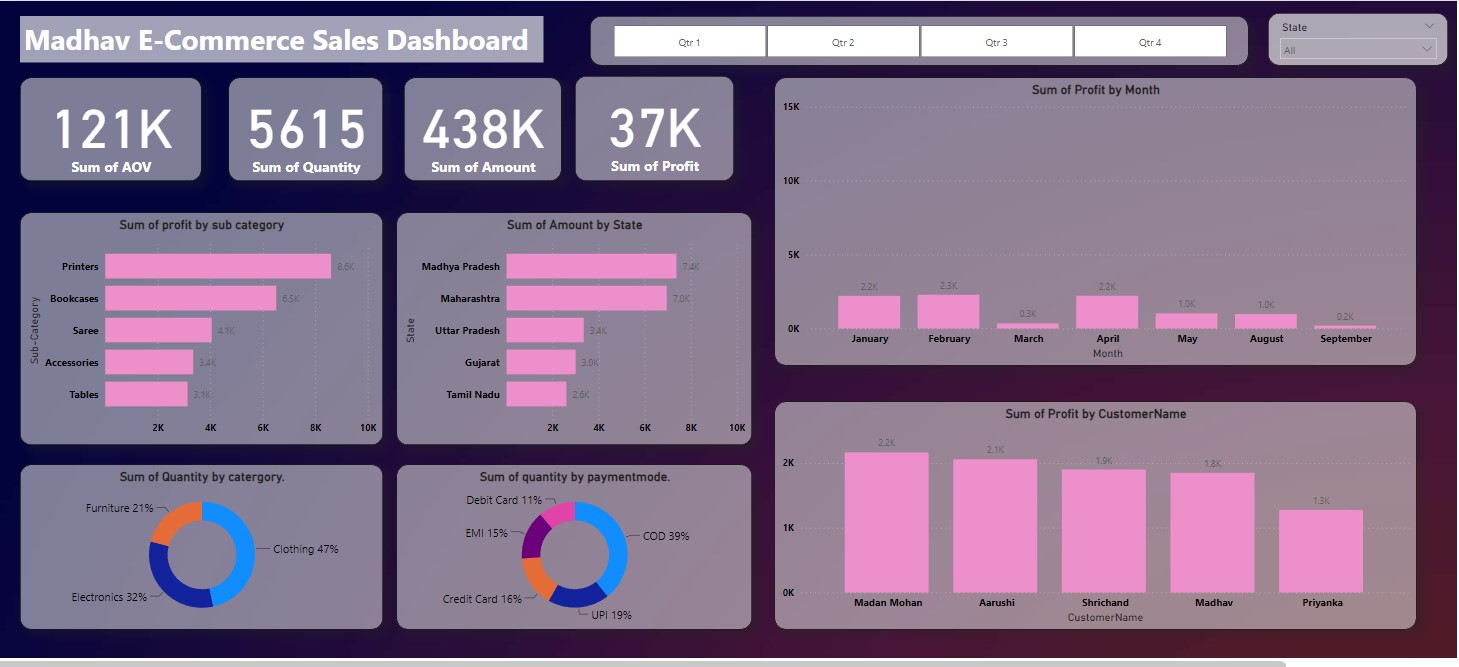

This screenshot's page, from the dashboard's own definition file:
{"tool":"powerbi","page":{"name":"Page 1","canvas":[2202,1000],"ordinal":0},"visuals":[{"type":"slicer","title":"Profit by Month","fields":{"Values":["Orders.Order Date.Variation.Date Hierarchy.Quarter"]},"box":[788,20,878,66],"z":0},{"type":"textbox","box":[28,20,698,62],"z":1},{"type":"clusteredBarChart","title":"Sum of Amount by State","fields":{"Y":["Details.Profit"],"Category":["Orders.State"]},"box":[530,282,474,310],"z":2},{"type":"donutChart","title":"Sum of Quantity by catergory.","fields":{"Category":["Details.Category"],"Y":["Details.Quantity"]},"box":[28,618,484,220],"z":3},{"type":"donutChart","title":"Sum of quantity by paymentmode.","fields":{"Y":["Details.Quantity"],"Category":["Details.PaymentMode"]},"box":[530,618,474,220],"z":4},{"type":"card","fields":{"Values":["Details.Amount"]},"box":[540,102,210,138],"z":5},{"type":"card","fields":{"Values":["Details.Profit"]},"box":[768,100,212,140],"z":6},{"type":"card","fields":{"Values":["Details.Quantity"]},"box":[306,102,206,138],"z":7},{"type":"card","fields":{"Values":["Details.AOV"]},"box":[28,102,242,138],"z":8},{"type":"clusteredBarChart","title":"Sum of profit by sub category","fields":{"Category":["Details.Sub-Category"],"Y":["Details.Profit"]},"box":[28,282,484,310],"z":9},{"type":"columnChart","fields":{"Category":["Orders.CustomerName"],"Y":["Details.Profit"]},"box":[1034,534,856,304],"z":10},{"type":"slicer","title":"Profit by Month","fields":{"Values":["Orders.State"]},"box":[1692,16,240,70],"z":11},{"type":"columnChart","fields":{"Y":["Details.Profit"],"Category":["Orders.Order Date.Variation.Date Hierarchy.Month"]},"box":[1034,102,856,384],"z":12}]}

Visuals, with their boxes in screenshot pixels (x1, y1, x2, y2), scaled from the page's 2202x1000 canvas onto the 1459x667 screenshot:
"Profit by Month" slicer: x1=522, y1=13, x2=1104, y2=57
textbox: x1=19, y1=13, x2=481, y2=55
"Sum of Amount by State" clusteredBarChart: x1=351, y1=188, x2=665, y2=395
"Sum of Quantity by catergory." donutChart: x1=19, y1=412, x2=339, y2=559
"Sum of quantity by paymentmode." donutChart: x1=351, y1=412, x2=665, y2=559
card - Details.Amount: x1=358, y1=68, x2=497, y2=160
card - Details.Profit: x1=509, y1=67, x2=649, y2=160
card - Details.Quantity: x1=203, y1=68, x2=339, y2=160
card - Details.AOV: x1=19, y1=68, x2=179, y2=160
"Sum of profit by sub category" clusteredBarChart: x1=19, y1=188, x2=339, y2=395
columnChart - Orders.CustomerName x Details.Profit: x1=685, y1=356, x2=1252, y2=559
"Profit by Month" slicer: x1=1121, y1=11, x2=1280, y2=57
columnChart - Details.Profit x Orders.Order Date.Variation.Date Hierarchy.Month: x1=685, y1=68, x2=1252, y2=324
